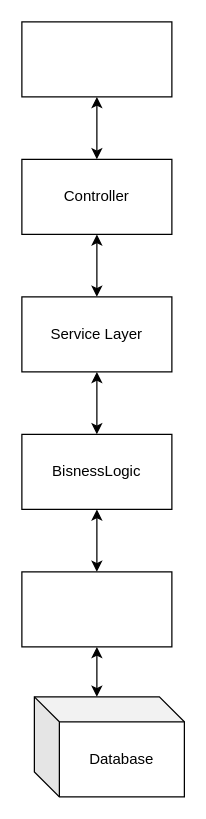
Some shapes in this 206 by 819 pixel diagram are drawn without their labels. Here are the shapes that lost their labels. From the top down, the centre of each, then its label:
At point 96,59: "View".
At point 96,609: "Access Layer".
